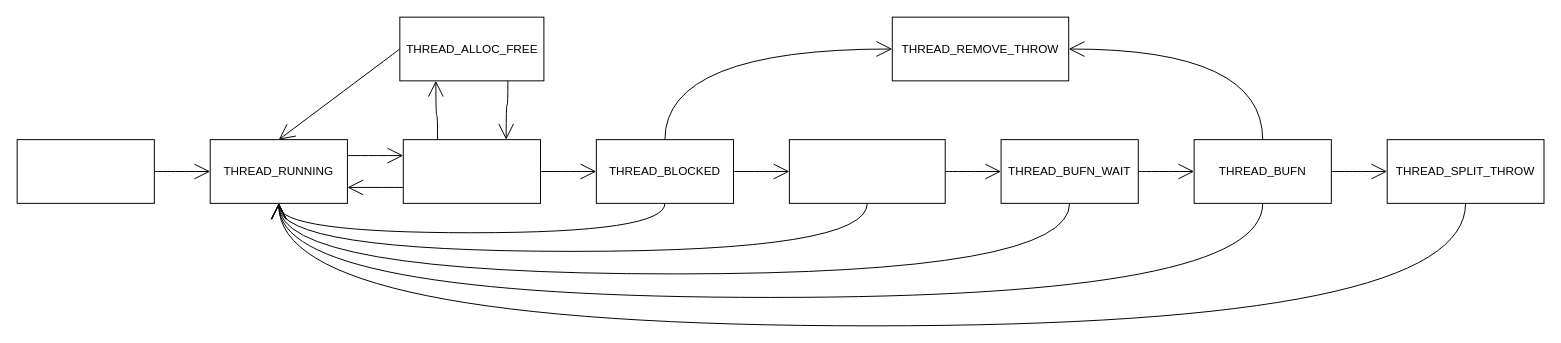
This 1561x343 diagram has some shape labels left out. Each missing label, with the centre of its shape:
"THREAD_ALLOC" goes at point (471, 171).
"THREAD_BUFN_THROW" goes at point (866, 171).
"UNKNOWN" goes at point (85, 171).
